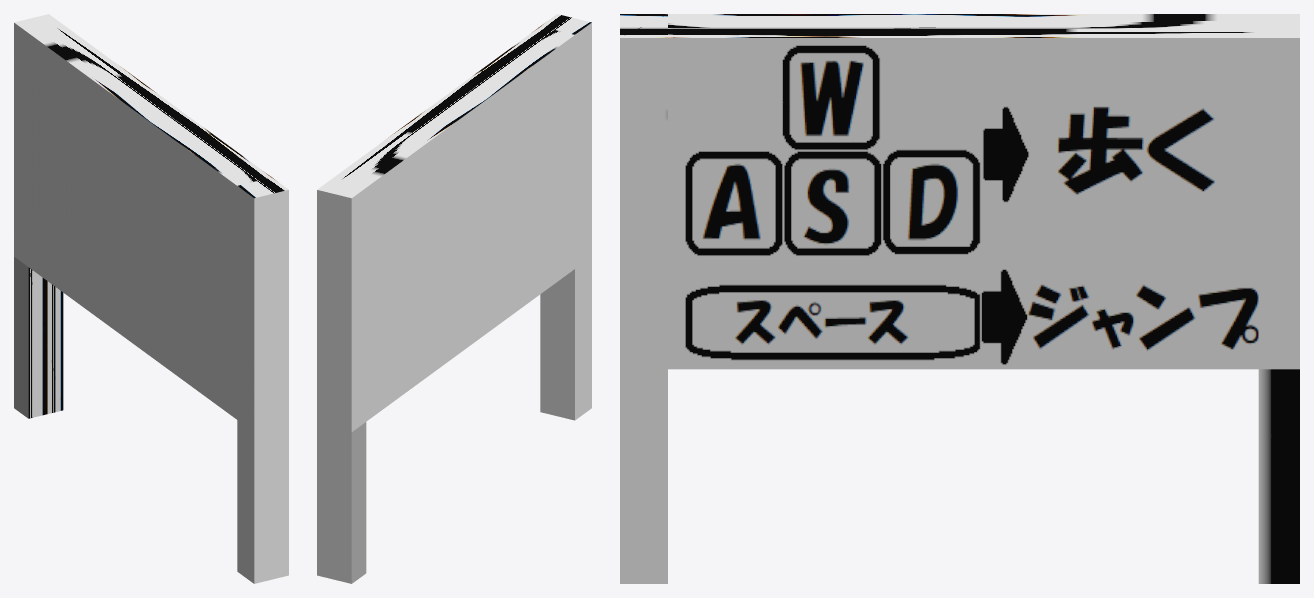
File: Walk.gltf
3 views of the same model, side by side, from view 1: azimuth 30°, elevation 25°; view 2: azimuth 150°, elevation 25°; view 3: azimuth 270°, elevation 25° (orthographic). The views are drawn at different scales.
Visible parts, largest first — view 1: Cube; view 2: Cube; view 3: Cube.
Boxes of the visible parts, x1=… form: Cube: x1=14, y1=14, x2=288, y2=583; Cube: x1=317, y1=14, x2=591, y2=583; Cube: x1=620, y1=14, x2=1299, y2=583.
Bounding box in the file's own units: 0.3113 × 3.3 × 3.72.
1 material, 1 textured.
